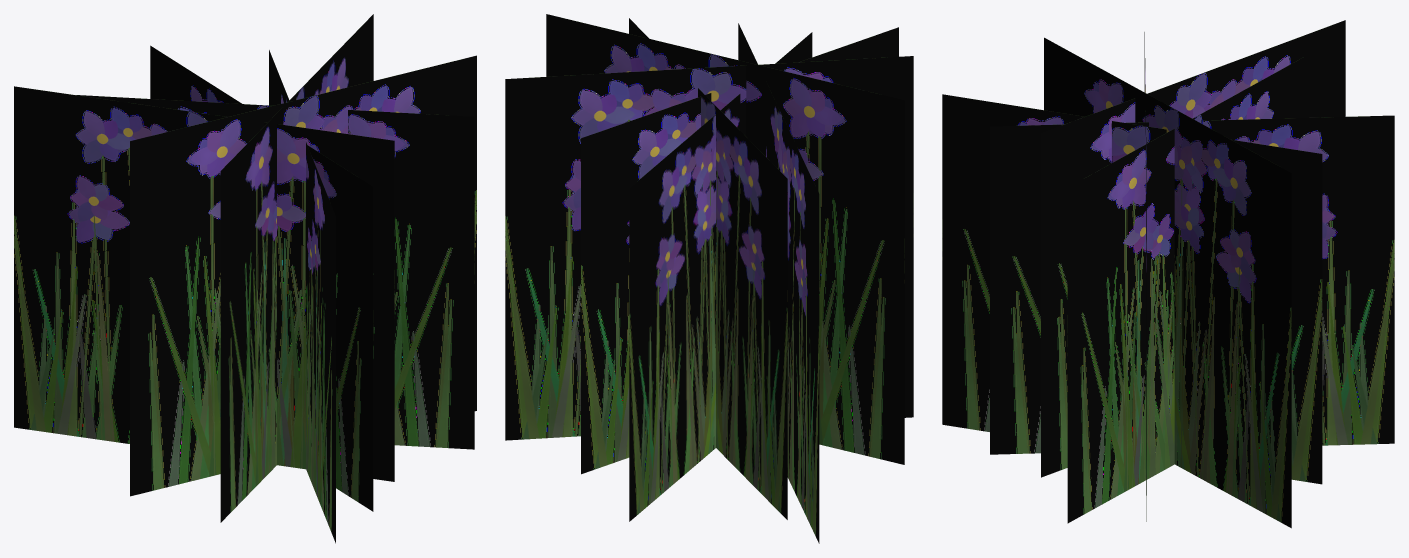
File: Flower_Garden_1.gltf
The picture shows the model from 3 angles, left to right: view 1: azimuth 30°, elevation 25°; view 2: azimuth 150°, elevation 25°; view 3: azimuth 270°, elevation 25°; orthographic projection. The views are drawn at different scales.
Visible parts, largest first — view 1: Flower_Garden_1; view 2: Flower_Garden_1; view 3: Flower_Garden_1.
Boxes of the visible parts, x1=… form: Flower_Garden_1: x1=14, y1=14, x2=476, y2=543; Flower_Garden_1: x1=505, y1=14, x2=913, y2=543; Flower_Garden_1: x1=942, y1=20, x2=1394, y2=528.
Bounding box in the file's own units: 0.9419 × 0.878 × 1.
Materials: 1 (1 with a texture image).
